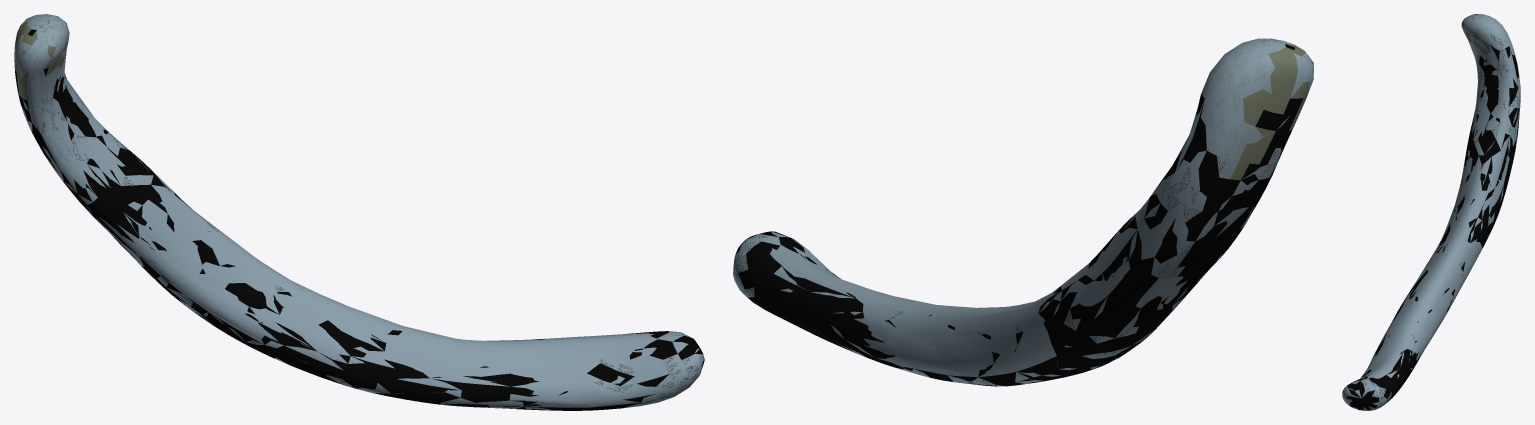
3 renders of one model, left to right at view 1: azimuth 30°, elevation 25°; view 2: azimuth 150°, elevation 25°; view 3: azimuth 270°, elevation 25°, orthographic. The views are drawn at different scales.
Parts seen in each view (by area): view 1: CC R05, CC R05 high, CC R05 low; view 2: CC R05 high, CC R05, CC R05 low; view 3: CC R05, CC R05 high, CC R05 low.
Part boxes in pixels (bbox=[...]): CC R05: bbox=[14, 14, 704, 410]; CC R05 high: bbox=[14, 14, 704, 410]; CC R05 low: bbox=[29, 51, 658, 406]; CC R05 high: bbox=[733, 39, 1313, 386]; CC R05: bbox=[733, 38, 1313, 386]; CC R05 low: bbox=[770, 111, 1199, 373]; CC R05: bbox=[1342, 14, 1520, 410]; CC R05 high: bbox=[1343, 14, 1520, 410]; CC R05 low: bbox=[1361, 43, 1516, 378].
Bounding box in the file's own units: 11.24 × 7.85 × 5.14.
